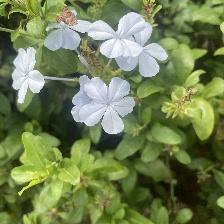chitrak: (83, 78, 140, 133), (121, 24, 171, 74), (94, 9, 141, 62), (14, 46, 48, 107)
